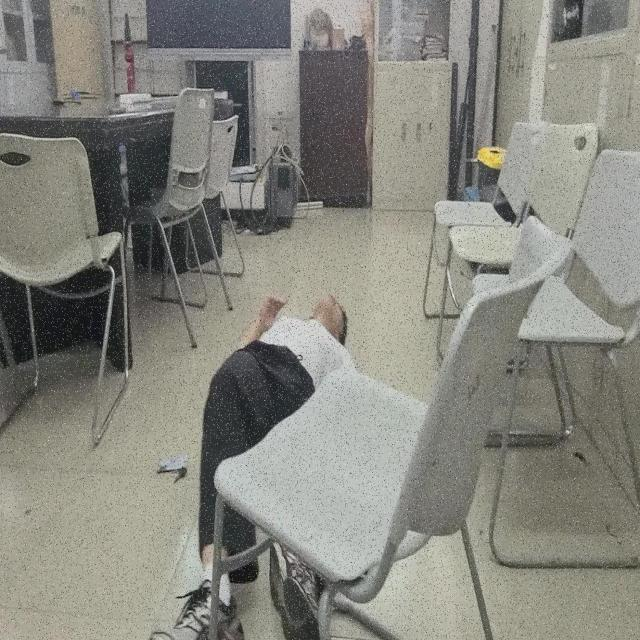fall: (148, 290, 348, 640)
